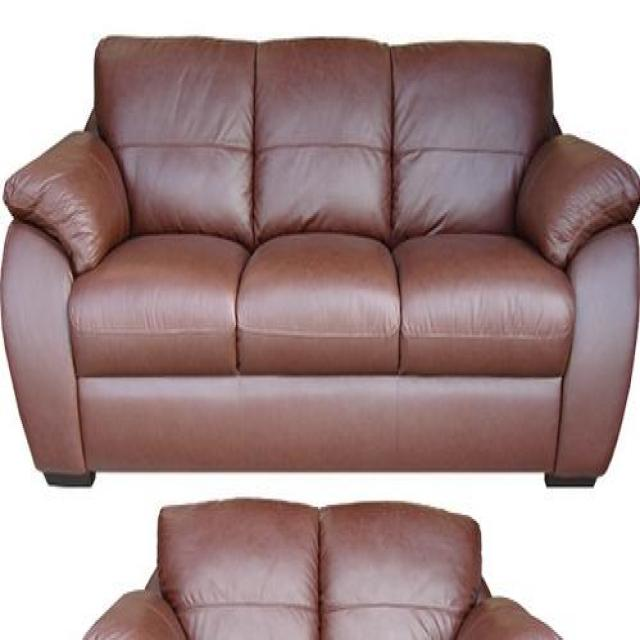sofa: (1, 32, 639, 488)
